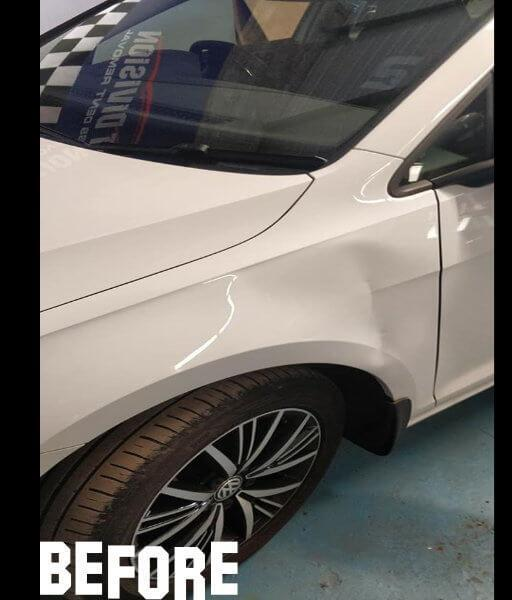dent: (315, 231, 463, 393)
